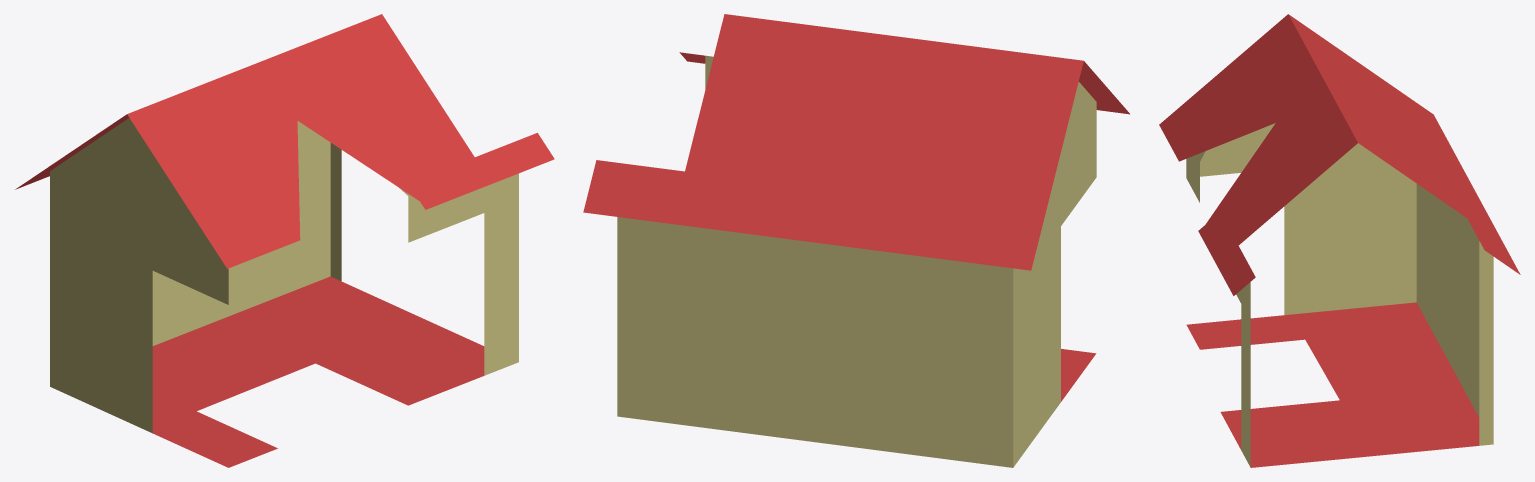
3 views of the same model, side by side, from view 1: azimuth 30°, elevation 25°; view 2: azimuth 150°, elevation 25°; view 3: azimuth 270°, elevation 25° (orthographic). The views are drawn at different scales.
Size of the model in its own units: 19.61 by 15.9 by 14.1.
